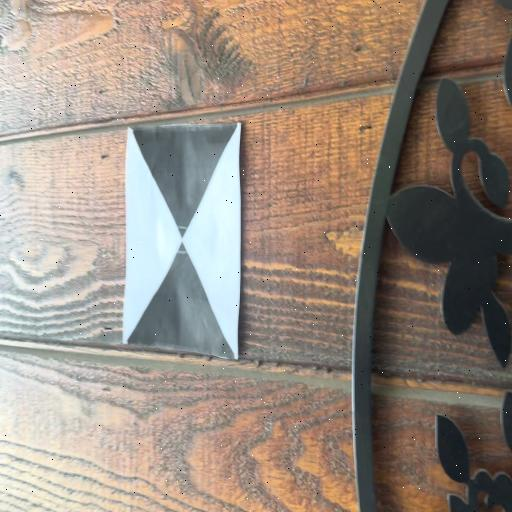target: (126, 128, 238, 356)
